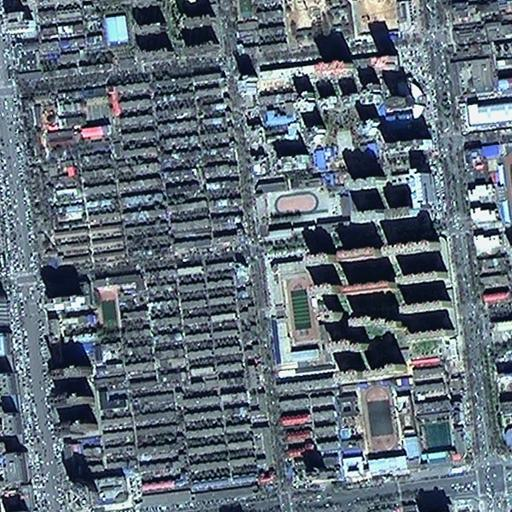school: (336, 383, 409, 476), (411, 364, 464, 466), (273, 273, 325, 368), (254, 173, 328, 238), (94, 273, 148, 327)
